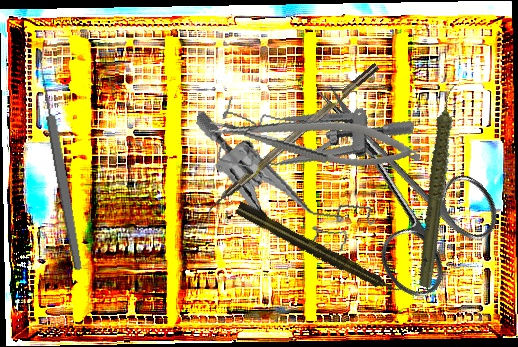Chopper: (198, 62, 387, 226)
Handpiece: (377, 81, 504, 290), (234, 199, 403, 301)
Iris Scissors: (269, 46, 515, 308)
Needle Holder: (206, 98, 425, 180)
Speculum: (178, 109, 389, 259), (212, 79, 416, 201)
Surgical Spoon: (32, 47, 86, 272)
